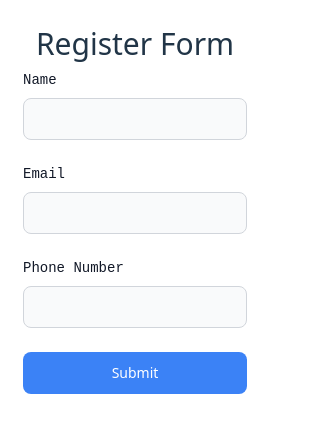
Scenario: Register Form Component › show validation email format errors
This screenshot has width=320, height=427.
Step 1. Type "Johnny D" into the field labelled "Name" → (135, 119), box [23,98,247,140]
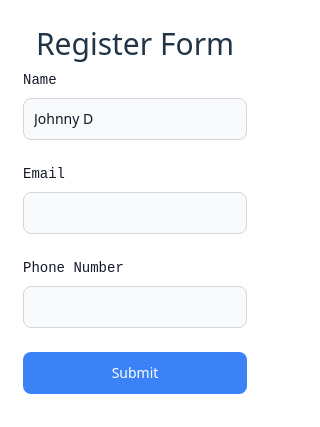
Step 2. Type "johndoe@example" into the field labelled "Email" → (135, 213), box [23,192,247,234]
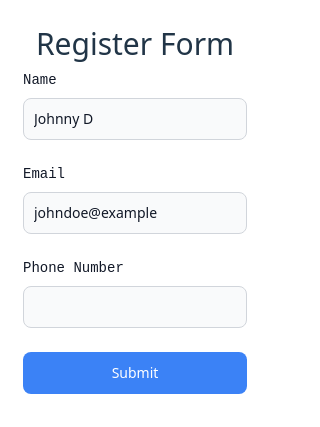
Step 3. Type "09876543213" into the field labelled "Phone Number" → (135, 307), box [23,286,247,328]
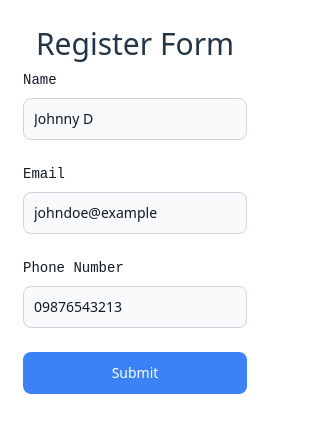
Step 4. Click the button "Submit" → click(135, 373), box [23,352,247,394]
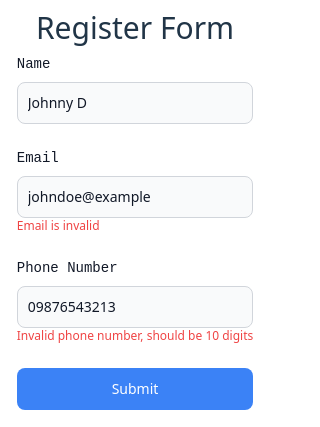
Expected: the text "Email is invalid" is shown, [17,217,100,234]
